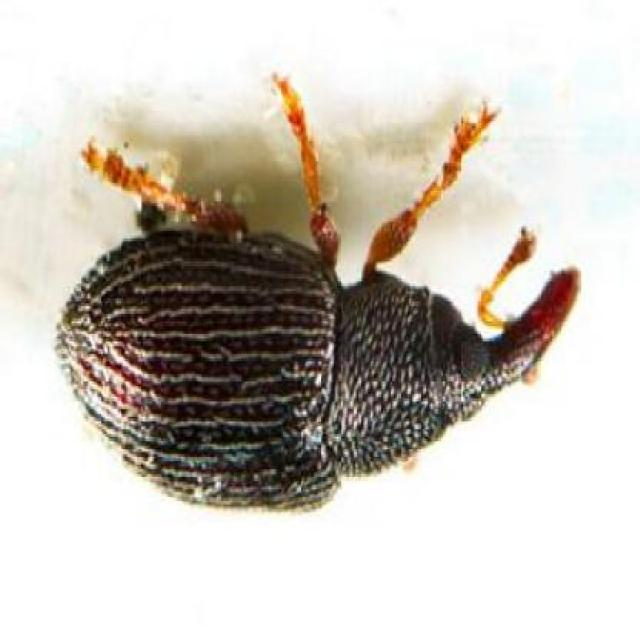rice-bug: (51, 73, 584, 509)
